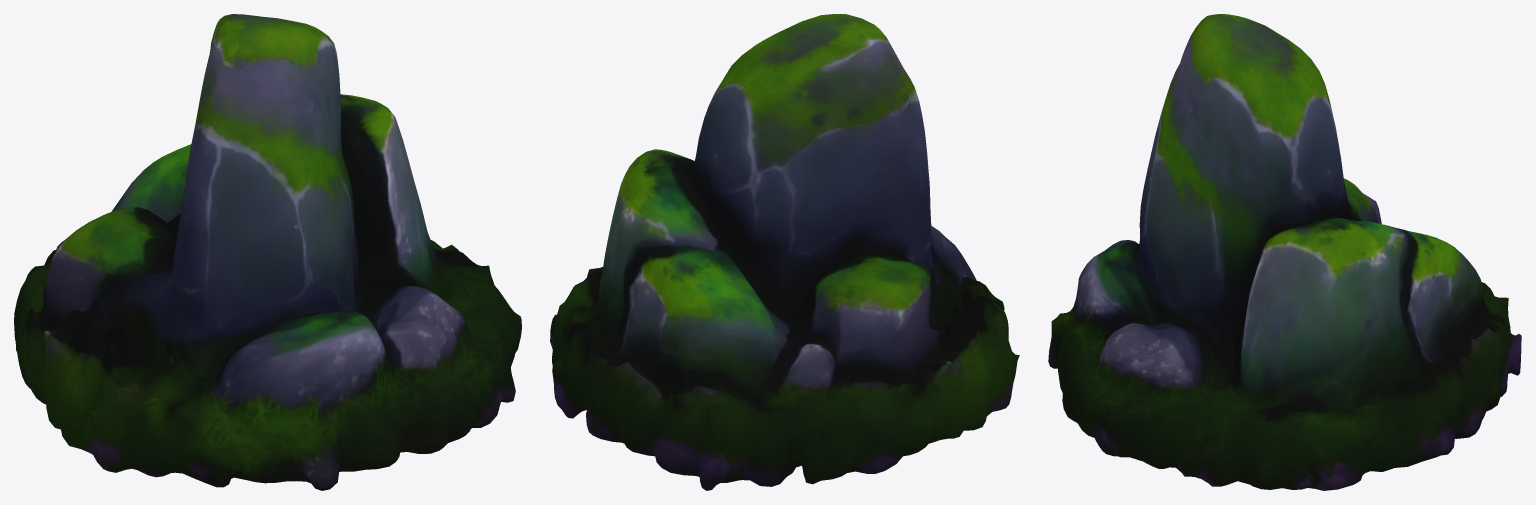
File: ghibli_rock.glb
3 views of the same model, side by side, from view 1: azimuth 30°, elevation 25°; view 2: azimuth 150°, elevation 25°; view 3: azimuth 270°, elevation 25° (orthographic). The views are drawn at different scales.
Visible parts, largest first — view 1: Object_2; view 2: Object_2; view 3: Object_2.
Boxes of the visible parts, <box> form: Object_2: <box>14,14,521,490</box>; Object_2: <box>550,14,1019,490</box>; Object_2: <box>1048,14,1521,490</box>.
Bounding box in the file's own units: 98.11 × 84.03 × 99.51.
1 material, 1 textured.
